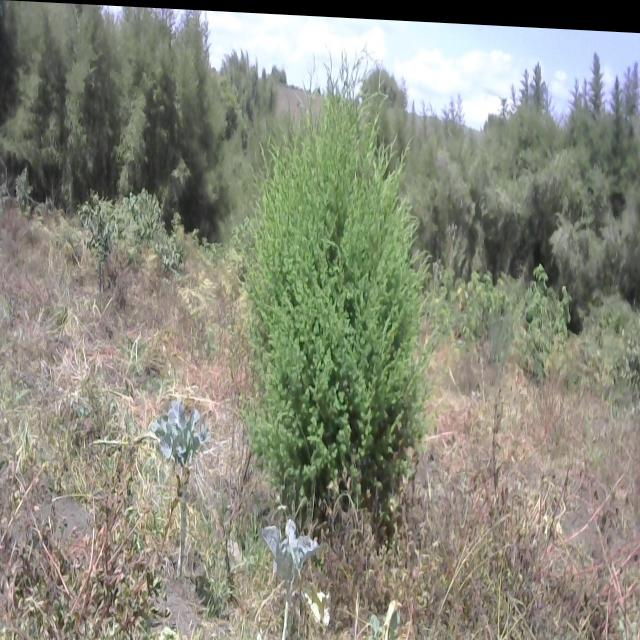cedrus: (257, 50, 438, 539)
